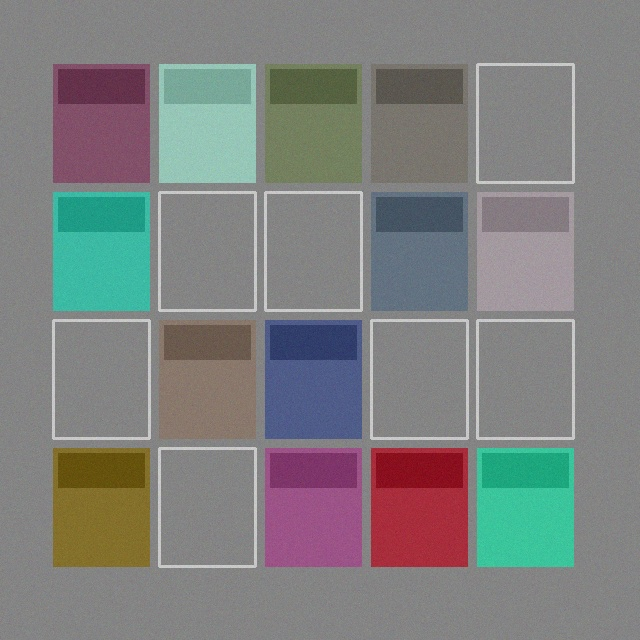space-empty: (477, 64, 573, 182), (159, 192, 255, 310), (265, 192, 361, 310), (53, 320, 149, 438), (371, 320, 467, 438), (477, 320, 573, 438), (159, 448, 255, 566)
space-occupied: (53, 64, 149, 182), (159, 64, 255, 182), (265, 64, 361, 182), (371, 64, 467, 182), (53, 192, 149, 310), (371, 192, 467, 310), (477, 192, 573, 310), (159, 320, 255, 438), (265, 320, 361, 438), (53, 448, 149, 566), (265, 448, 361, 566), (371, 448, 467, 566), (477, 448, 573, 566)
